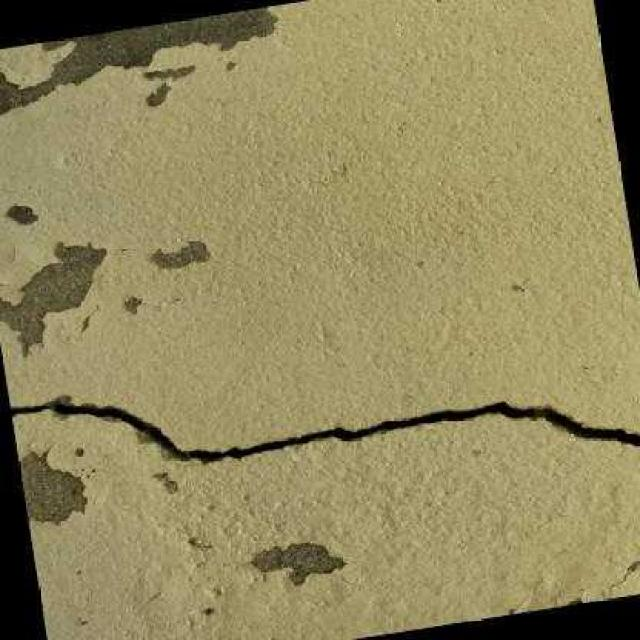D00: (9, 398, 640, 459)
